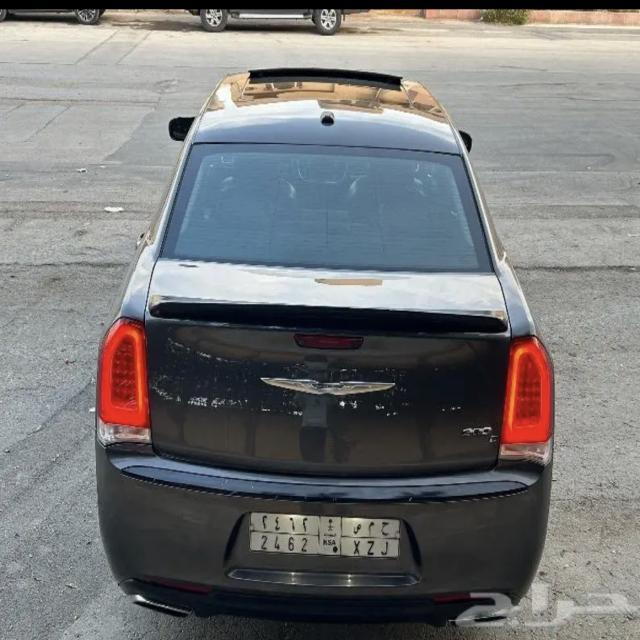license_plate: (251, 508, 404, 566)
